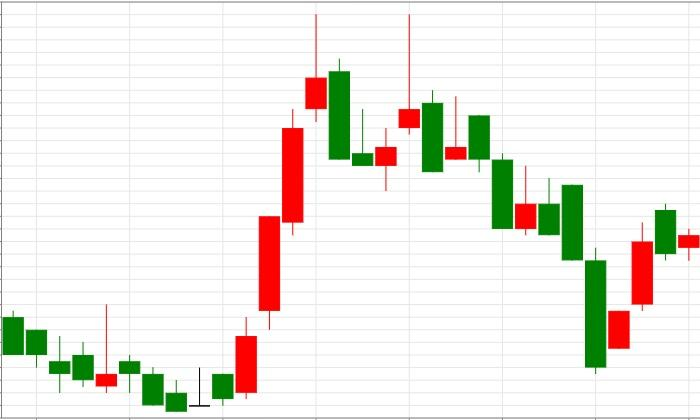shooting_star_fall: (212, 14, 326, 406)
three_white_soldiers_rise: (119, 109, 304, 412)
